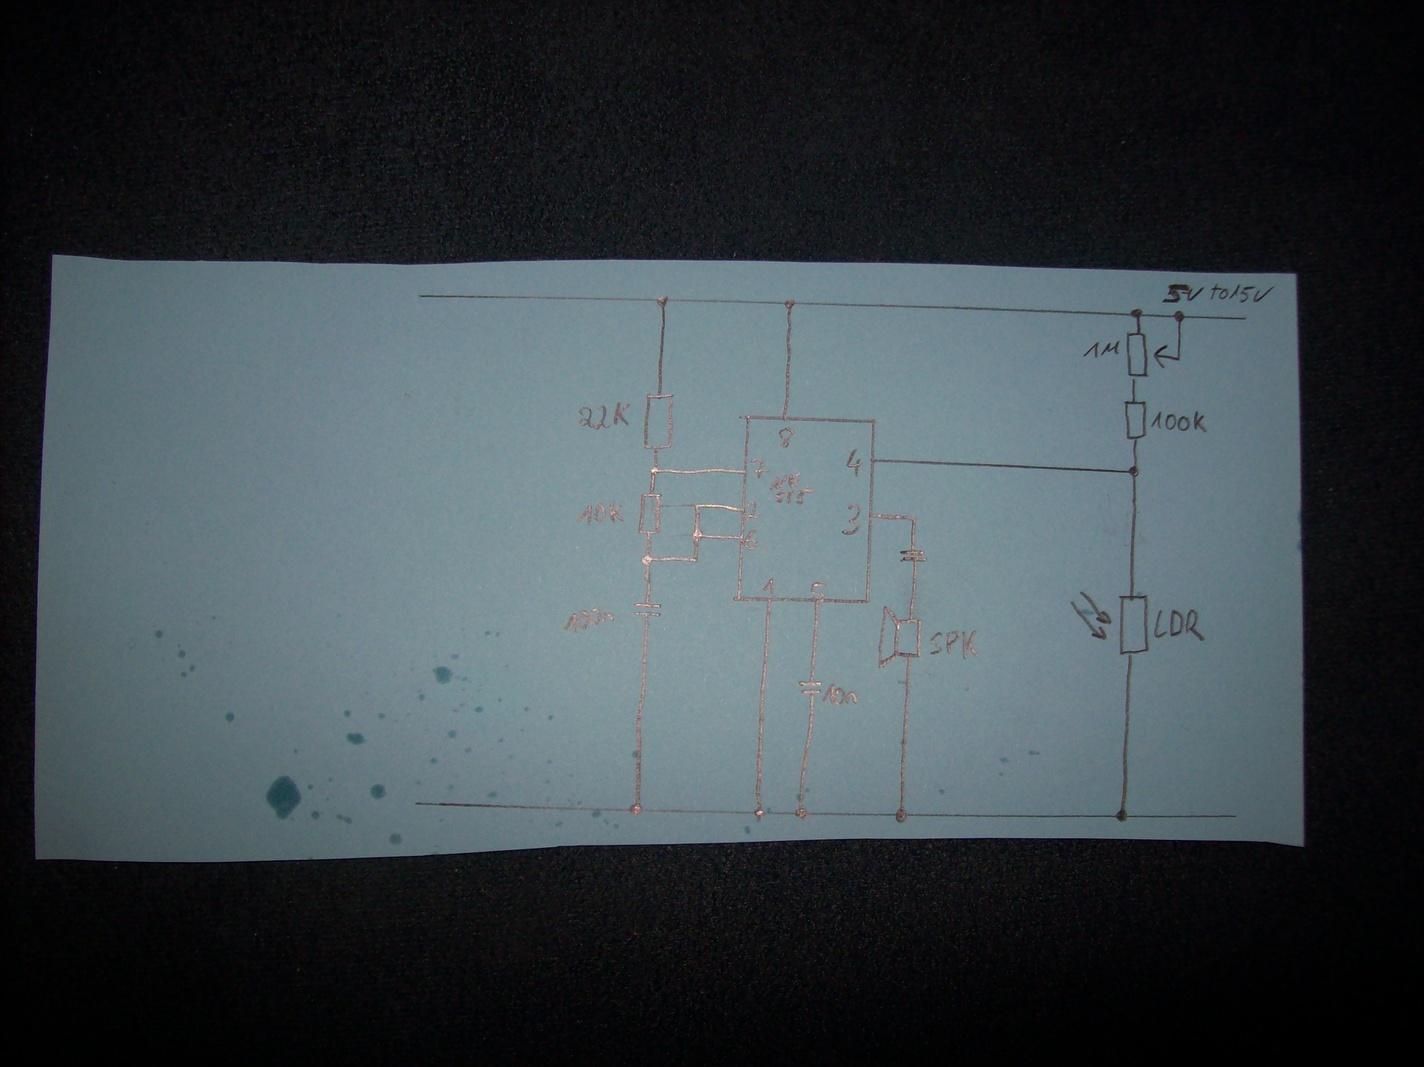capacitor.unpolarized: (631, 599, 664, 622), (899, 547, 930, 565), (798, 678, 823, 696)
integrated_cricuit.ne555: (732, 412, 879, 606)
junction: (892, 806, 911, 825), (629, 800, 646, 818), (1113, 807, 1130, 824), (750, 806, 769, 822), (792, 806, 811, 822), (655, 293, 672, 309), (1126, 463, 1143, 480), (639, 553, 657, 568), (1128, 306, 1145, 321), (690, 528, 705, 544), (1171, 309, 1186, 324), (908, 511, 922, 527), (783, 296, 797, 310), (649, 464, 661, 477), (690, 553, 701, 566), (692, 501, 704, 512)
resistor: (642, 392, 674, 452), (634, 488, 664, 539), (1121, 399, 1150, 440)
resistor.adjustable: (1124, 330, 1184, 383)
resistor.photo: (1069, 590, 1151, 657)
speaker: (875, 604, 924, 672)
terminal: (409, 797, 428, 810), (1227, 811, 1240, 822), (1239, 313, 1250, 324), (415, 293, 428, 301)
text: (1161, 282, 1273, 305), (1152, 607, 1207, 643), (576, 399, 633, 432), (927, 629, 980, 661), (769, 472, 815, 505), (574, 500, 627, 528), (1150, 410, 1209, 435), (561, 606, 615, 632), (821, 681, 859, 706), (1082, 338, 1121, 360), (840, 502, 863, 537), (844, 446, 863, 479), (776, 424, 795, 449), (748, 456, 769, 480), (809, 581, 829, 604), (758, 576, 778, 596), (744, 528, 758, 551), (746, 499, 761, 521)
